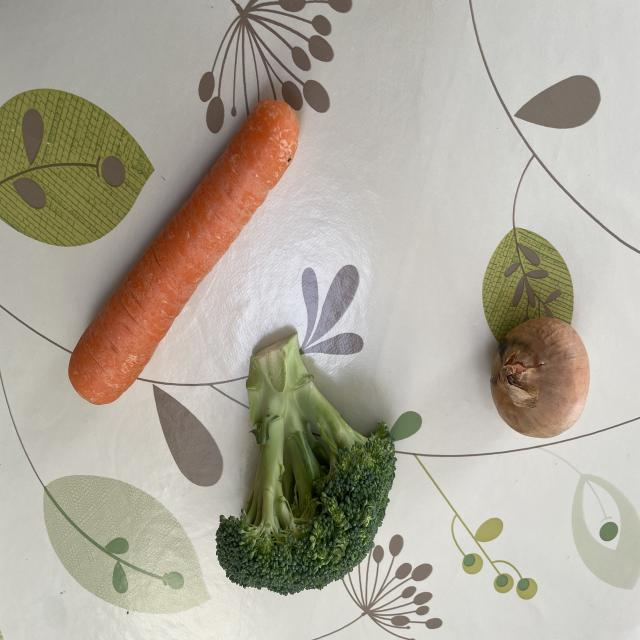Broccoli: (215, 336, 398, 596)
Carrot: (67, 98, 300, 406)
Onion: (488, 314, 591, 442)
